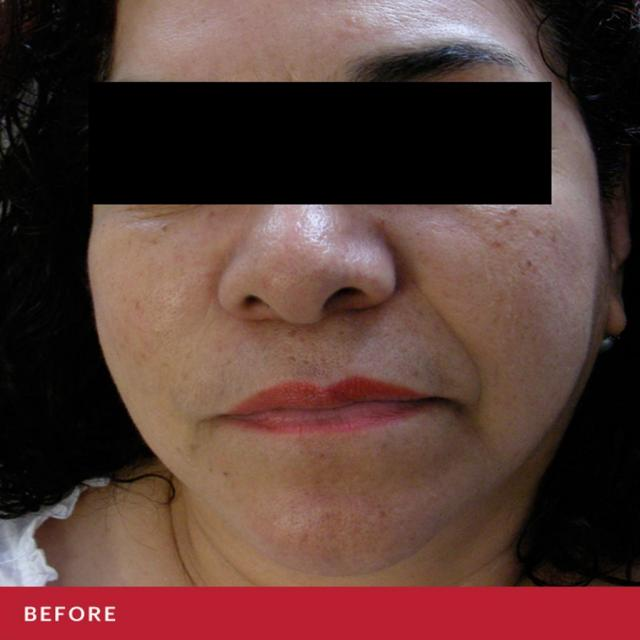nomask: (86, 1, 605, 575)
